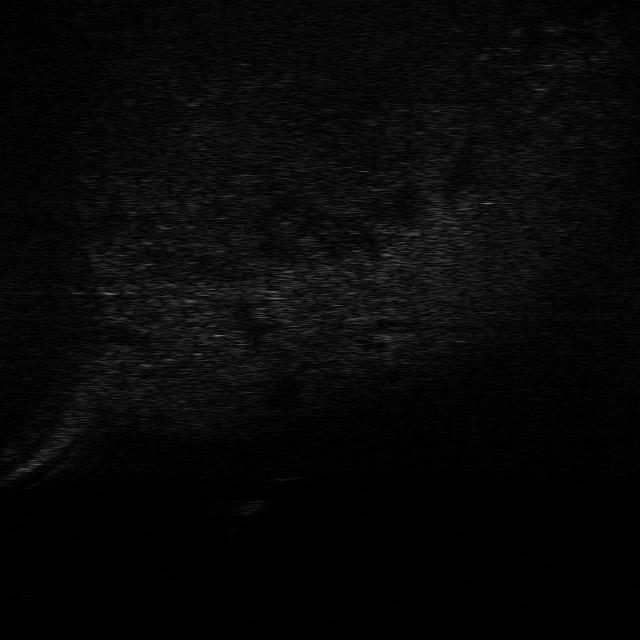cube: (268, 466, 300, 484)
cylinder: (233, 496, 265, 515)
